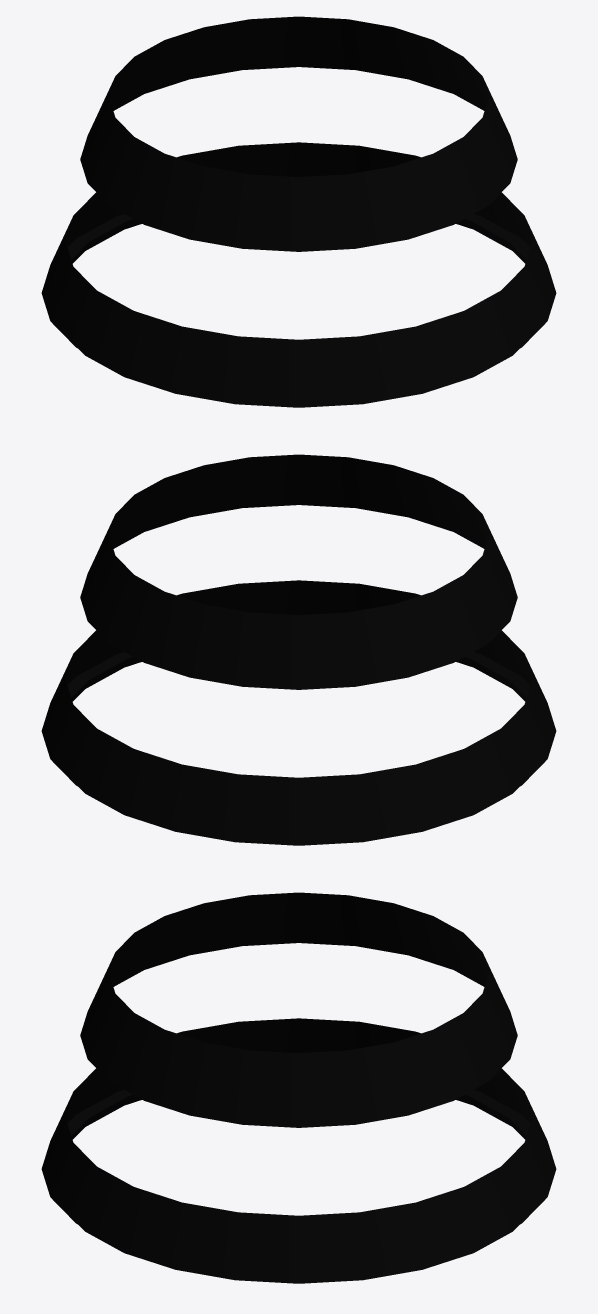
The model's file is hamal_aeroshell_s1p5_s1_2.obj.
The picture shows the model from 3 angles, top to bottom: view 1: azimuth 30°, elevation 25°; view 2: azimuth 150°, elevation 25°; view 3: azimuth 270°, elevation 25°; orthographic projection.
Parts seen in each view (by area): view 1: 2; view 2: 2; view 3: 2.
Boxes of the visible parts, <box> form: 2: <box>41,16,556,407</box>; 2: <box>41,454,556,845</box>; 2: <box>41,892,556,1283</box>.
Bounding box in the file's own units: 1.88 × 0.75 × 1.88.
